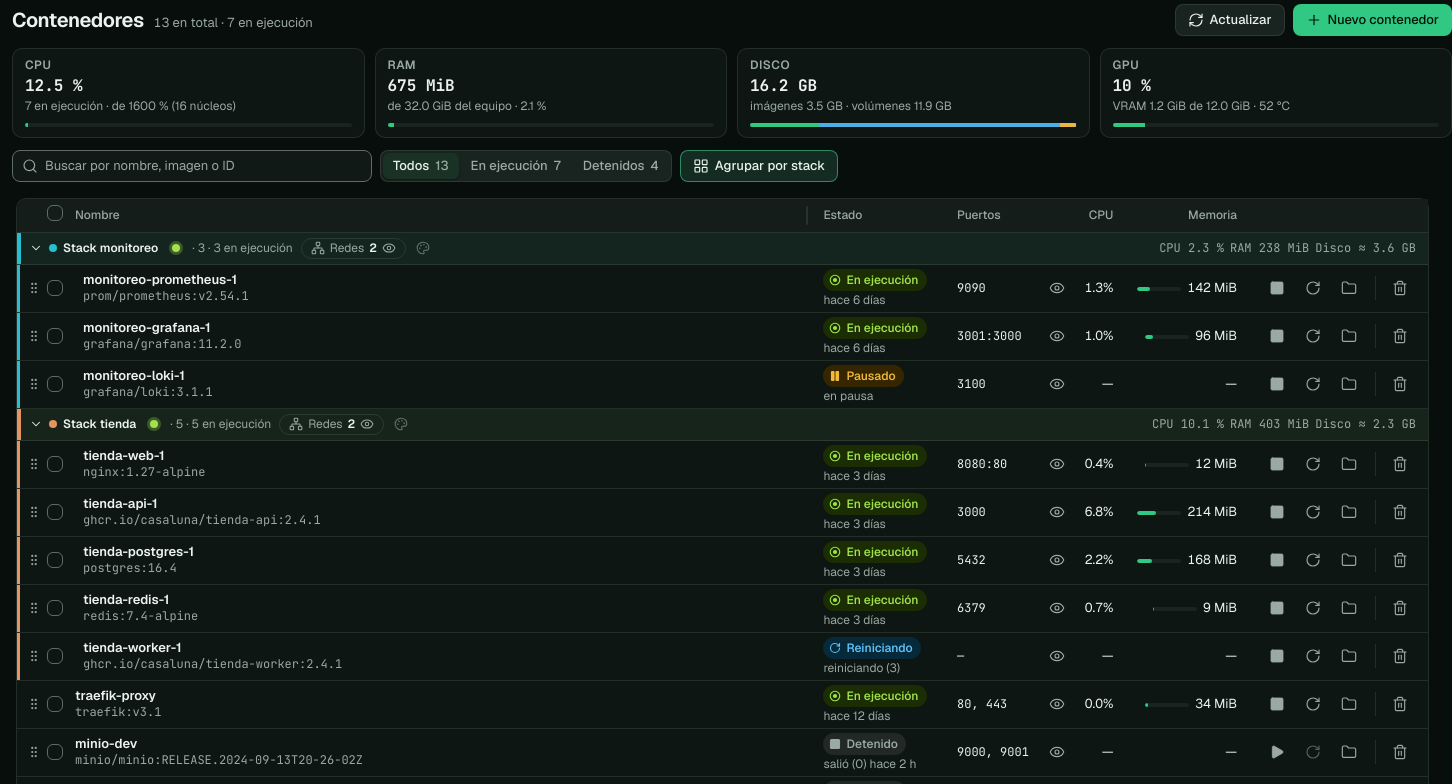
Test case: ContainersPage › error de una fila: se anuncia (role=alert) y «Reintentar» repite la operación que falló, no arranca el contenedor
Check: the link "tienda-api-1" is shown, box [83,495,158,512]
Click the button named "Detener tienda-web-1". click: (1277, 464)
box: [1261,448,1293,480]
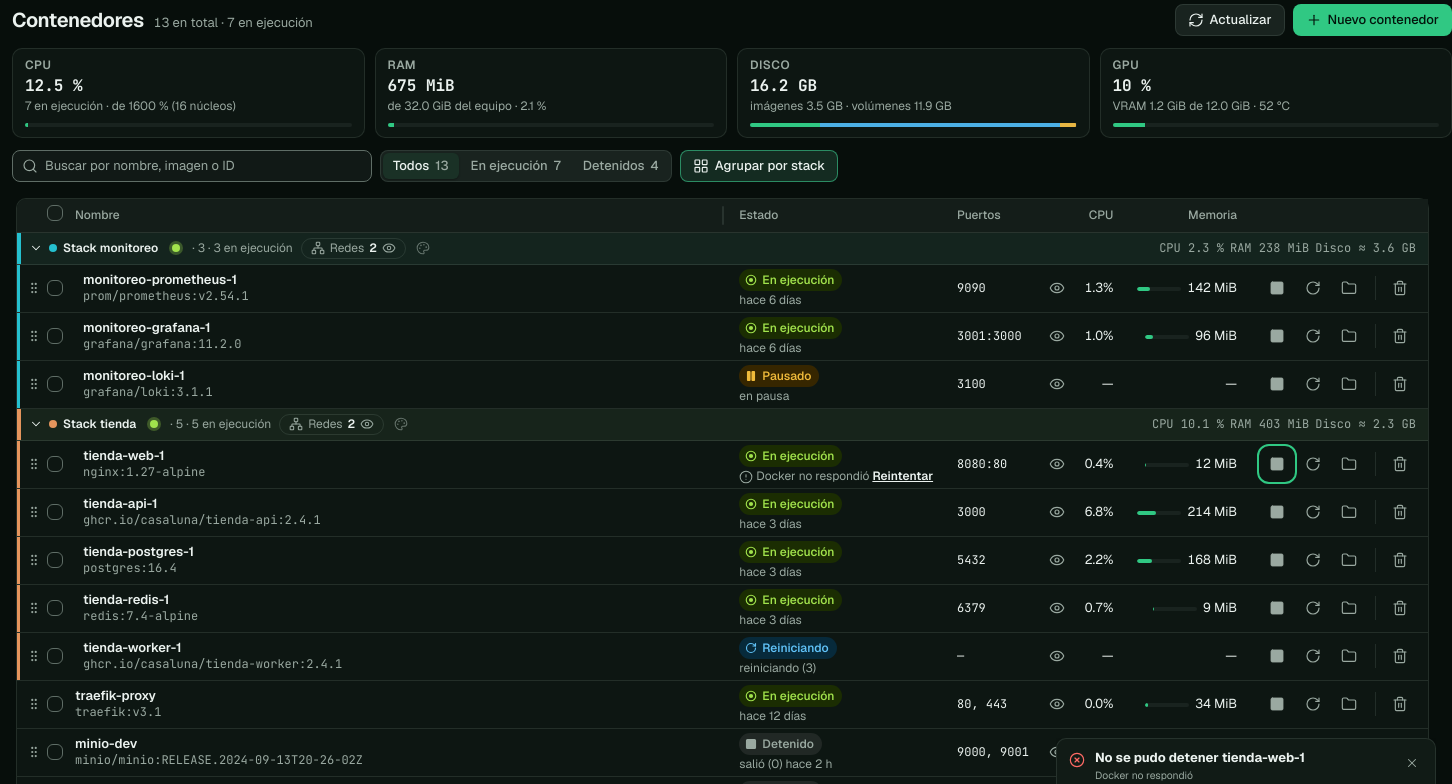
Check: the text "Docker no respondió Reintentar" is shown, box [739,469,933,484]
Click the button "Reintentar". click: (903, 476)
box: [872,469,933,484]
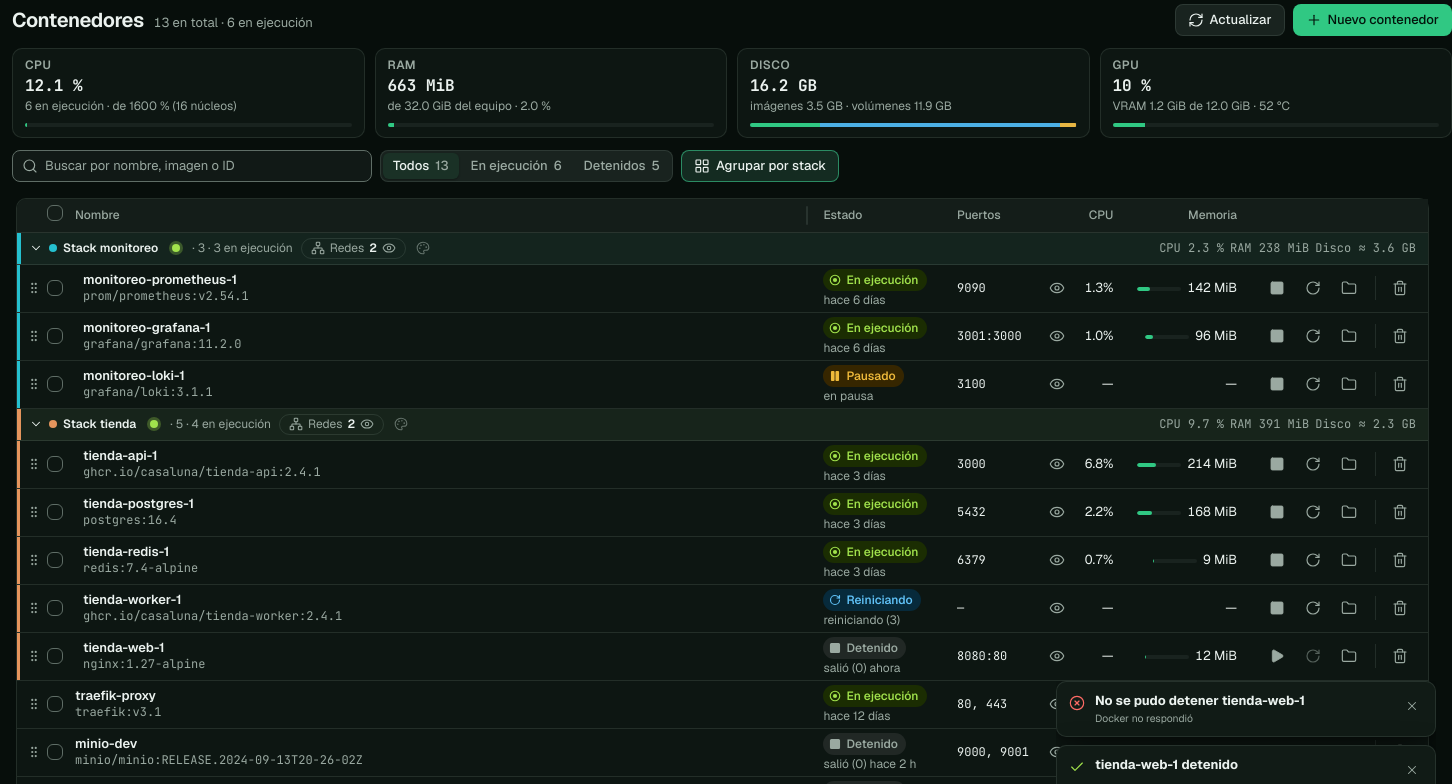
Check: the text "Detenido" in the row of "nginx:1.27-alpine" is shown, box [846,640,898,656]
